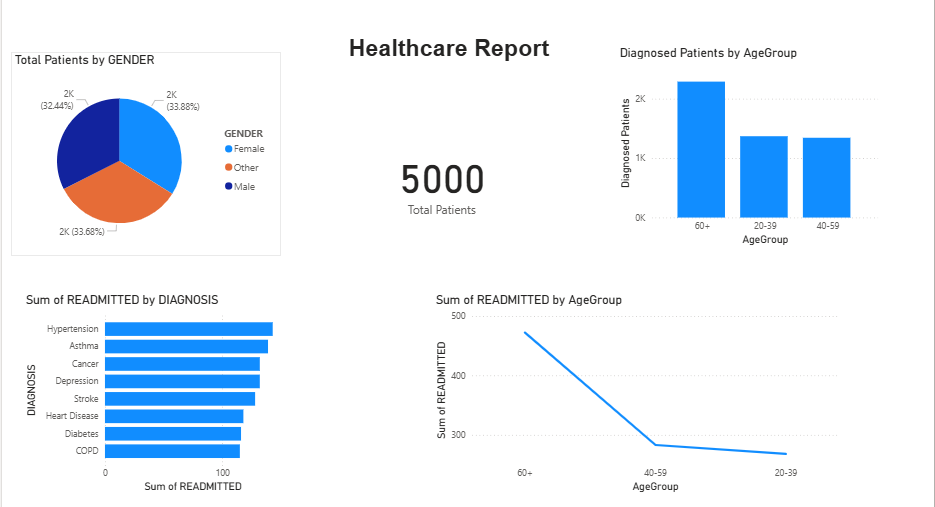

The page's visual inventory and layout, read from the dashboard file:
{"tool":"powerbi","page":{"name":"Page 1","canvas":[1280,720],"ordinal":0},"visuals":[{"type":"pieChart","fields":{"Category":["CLEANED_PATIENTS.GENDER"],"Y":["CLEANED_PATIENTS.Total Patients"]},"box":[12.4,79.7,370.8,280.2],"z":0},{"type":"clusteredBarChart","fields":{"Category":["CLEANED_PATIENTS.DIAGNOSIS"],"Y":["Sum(CLEANED_PATIENTS.READMITTED)"]},"box":[27.5,409.3,370.8,280.2],"z":1000},{"type":"lineChart","fields":{"Category":["CLEANED_PATIENTS.AgeGroup"],"Y":["Sum(CLEANED_PATIENTS.READMITTED)"]},"box":[590.6,409.3,563.1,280.2],"z":2000},{"type":"card","fields":{"Values":["CLEANED_PATIENTS.Total Patients"]},"box":[421.6,178.5,365.3,159.3],"z":3000},{"type":"lineClusteredColumnComboChart","fields":{"Y":["CLEANED_PATIENTS.Diagnosed Patients"],"Category":["CLEANED_PATIENTS.AgeGroup"]},"box":[843.3,70,365.3,280.2],"z":3001},{"type":"textbox","box":[431.2,50.8,365.3,57.7],"z":3002}]}

Visuals, with their boxes on the page's 1280x720 design canvas (x1, y1, x2, y2). These are canvas units, not pixel positions in the 935x507 screenshot, which may show the page scaled, cropped or inside an application window:
pieChart - CLEANED_PATIENTS.GENDER x CLEANED_PATIENTS.Total Patients: {"left": 12, "top": 80, "right": 383, "bottom": 360}
clusteredBarChart - CLEANED_PATIENTS.DIAGNOSIS x Sum(CLEANED_PATIENTS.READMITTED): {"left": 28, "top": 409, "right": 398, "bottom": 690}
lineChart - CLEANED_PATIENTS.AgeGroup x Sum(CLEANED_PATIENTS.READMITTED): {"left": 591, "top": 409, "right": 1154, "bottom": 690}
card - CLEANED_PATIENTS.Total Patients: {"left": 422, "top": 178, "right": 787, "bottom": 338}
lineClusteredColumnComboChart - CLEANED_PATIENTS.Diagnosed Patients x CLEANED_PATIENTS.AgeGroup: {"left": 843, "top": 70, "right": 1209, "bottom": 350}
textbox: {"left": 431, "top": 51, "right": 796, "bottom": 108}
